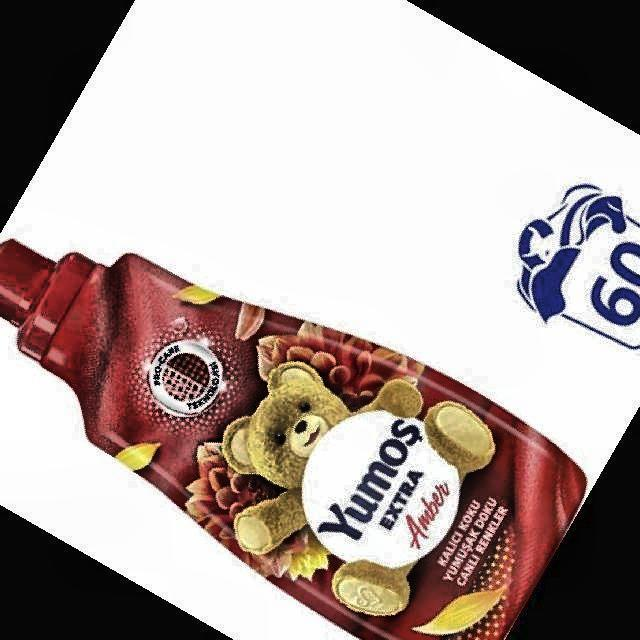plastic: (0, 241, 586, 640)
